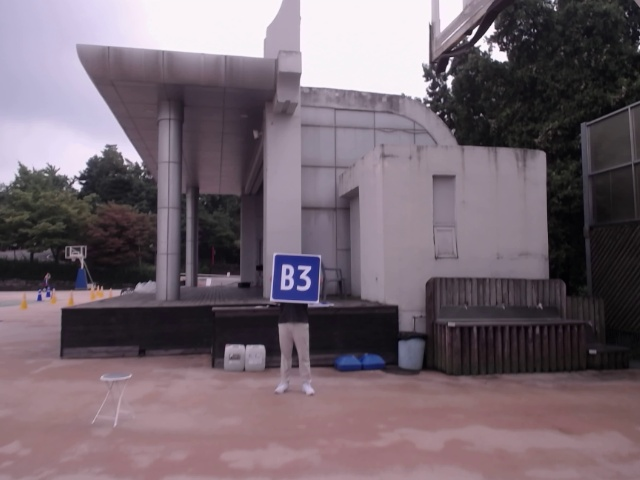delivery_b3: (272, 251, 322, 304)
